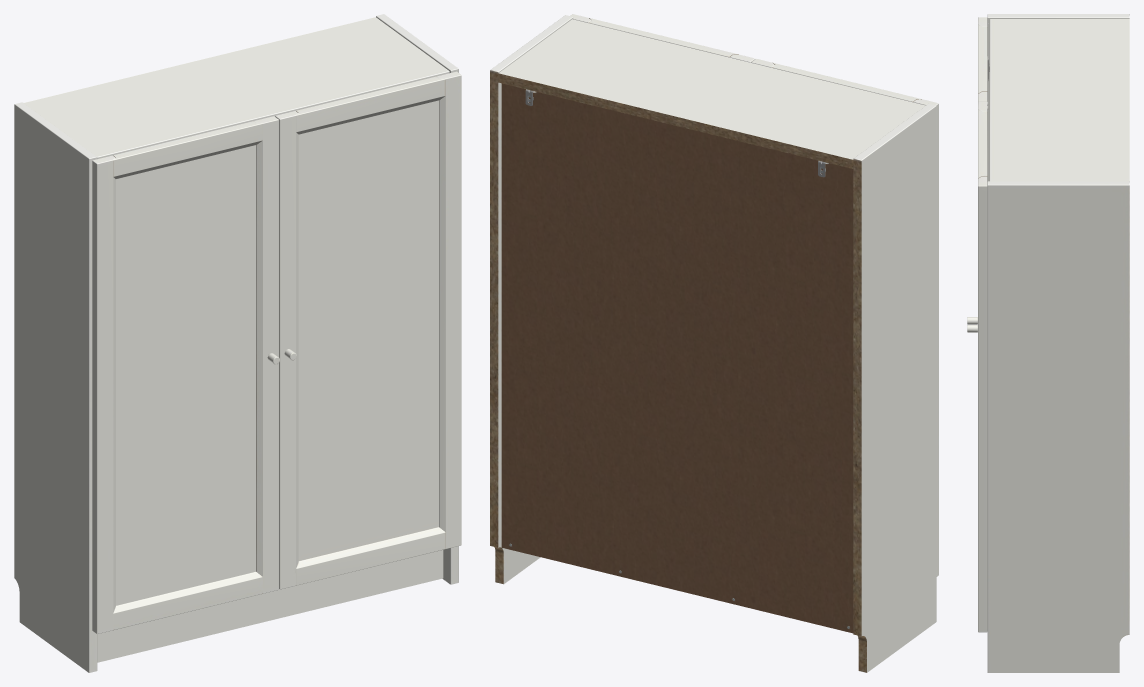
Rendered from billy_oxberg_rega_z_drzwiami_49280042.glb.
3 renders of one model, left to right at view 1: azimuth 30°, elevation 25°; view 2: azimuth 150°, elevation 25°; view 3: azimuth 270°, elevation 25°, orthographic. The views are drawn at different scales.
Visible parts, largest first — view 1: billy_oxberg_rega_z_drzwiami_49280042; view 2: billy_oxberg_rega_z_drzwiami_49280042; view 3: billy_oxberg_rega_z_drzwiami_49280042.
Part boxes in pixels (x1,y1,x2,y2): billy_oxberg_rega_z_drzwiami_49280042: (14, 14, 461, 672); billy_oxberg_rega_z_drzwiami_49280042: (490, 14, 938, 672); billy_oxberg_rega_z_drzwiami_49280042: (967, 14, 1129, 672).
Size of the model in its own units: 0.7981 by 1.06 by 0.3201.
1 material, 1 textured.
